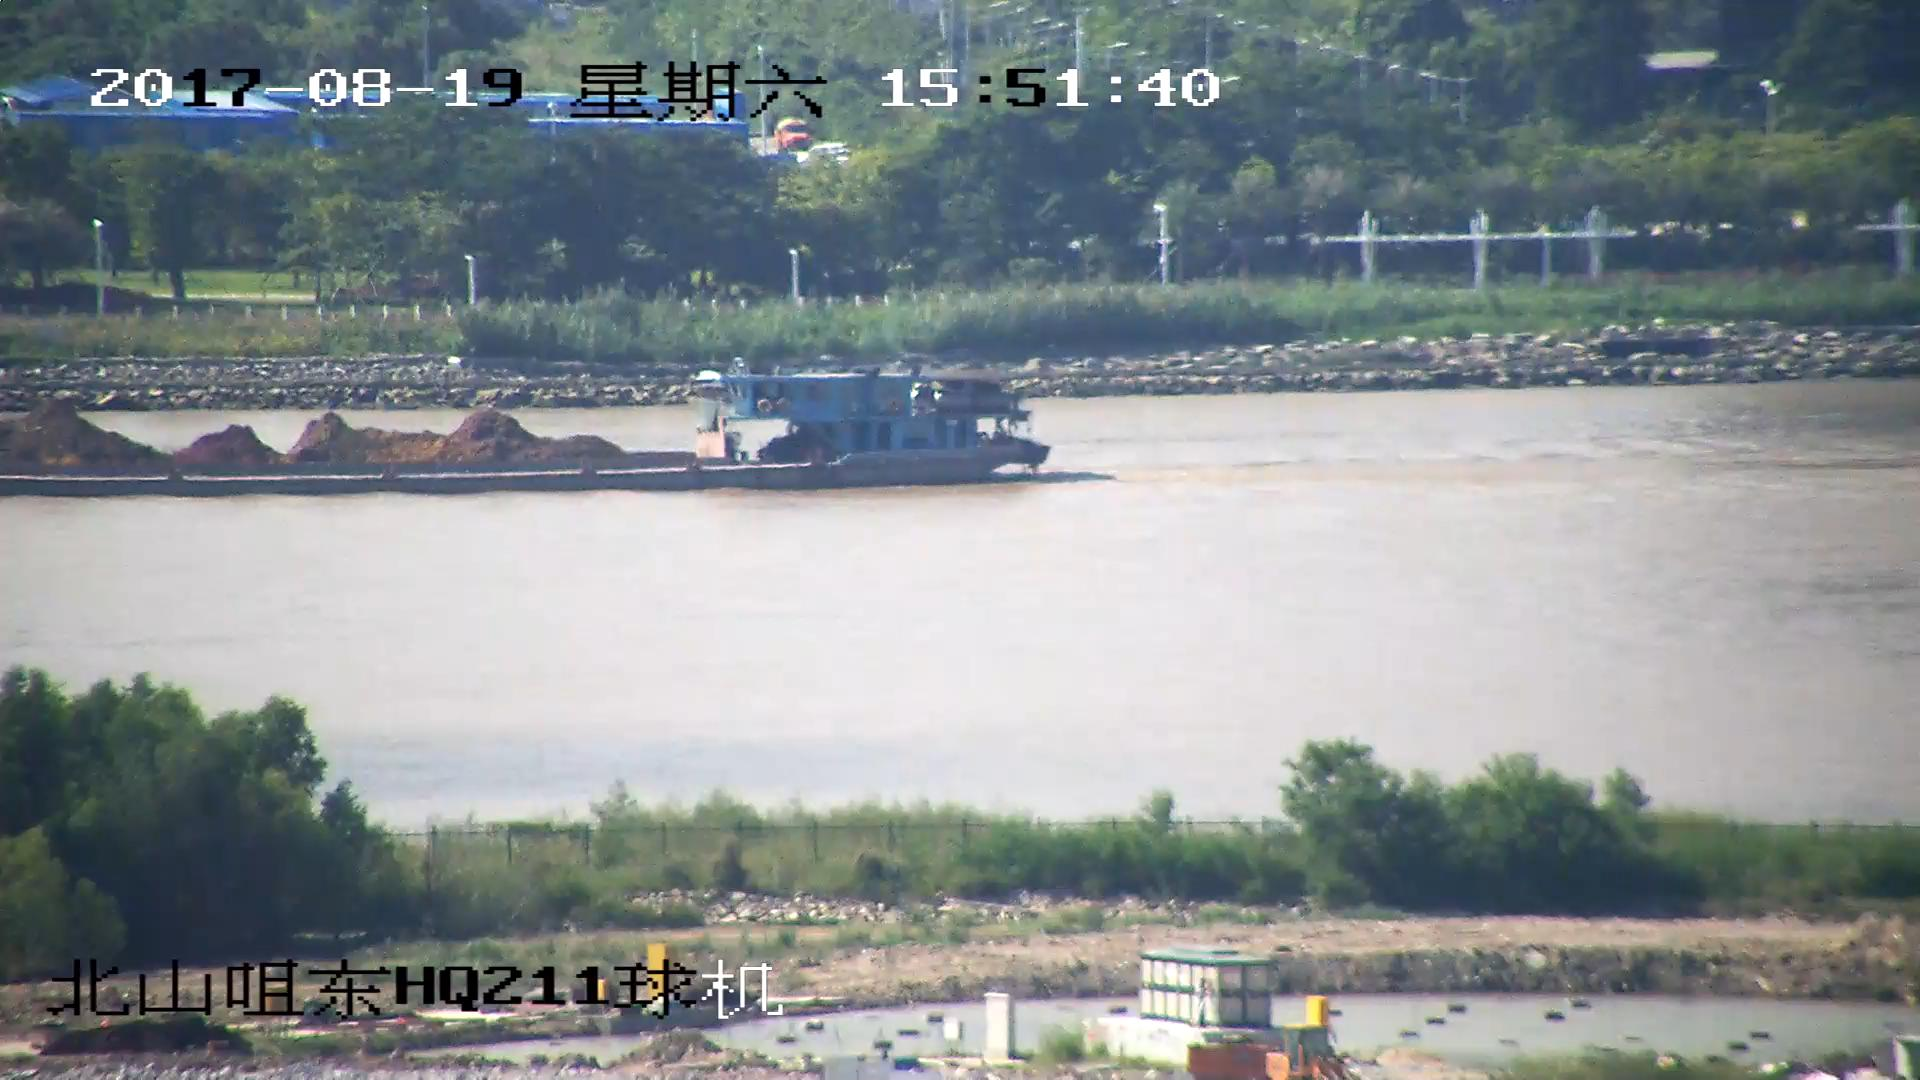ore carrier: (1, 364, 1051, 497)
